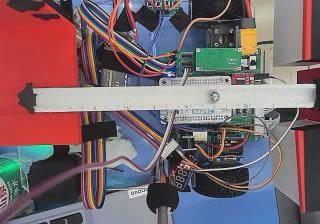ironball: (210, 91, 219, 102)
